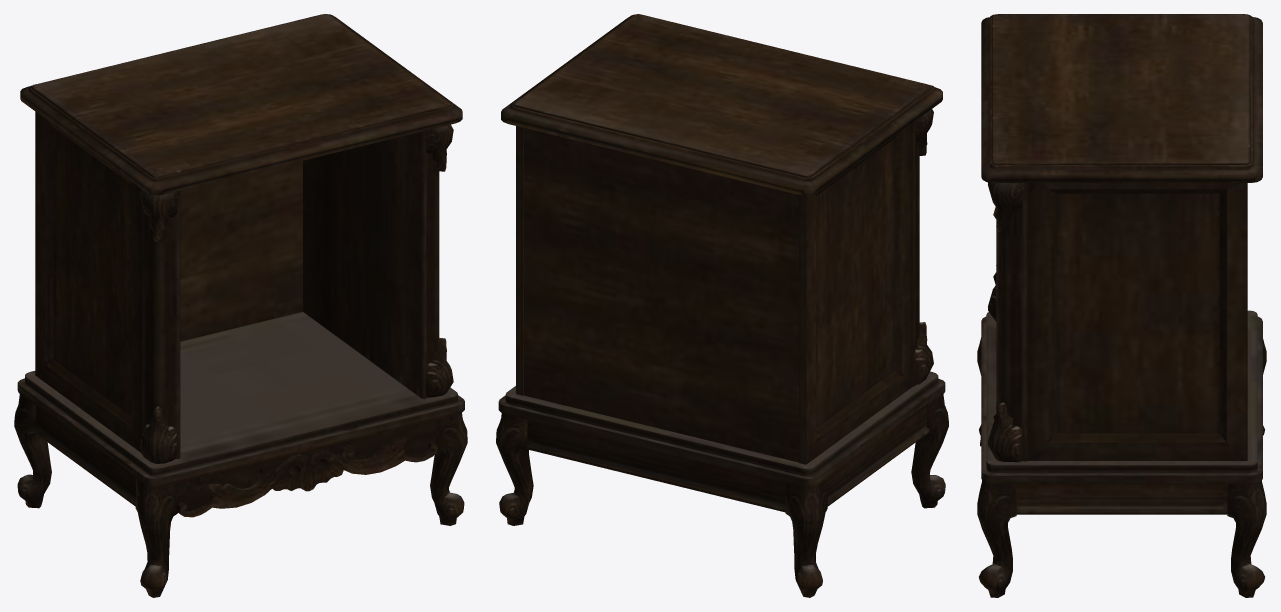
The picture shows the model from 3 angles, left to right: view 1: azimuth 30°, elevation 25°; view 2: azimuth 150°, elevation 25°; view 3: azimuth 270°, elevation 25°; orthographic projection. The views are drawn at different scales.
Parts seen in each view (by area): view 1: ClassicNightstand_01; view 2: ClassicNightstand_01; view 3: ClassicNightstand_01.
Boxes of the visible parts, x1,y1,x2,y2 form: ClassicNightstand_01: (14,14,467,597); ClassicNightstand_01: (496,14,948,597); ClassicNightstand_01: (977,14,1266,597).
Bounding box in the file's own units: 0.5678 × 0.7 × 0.4242.
Materials: 1 (1 with a texture image).
